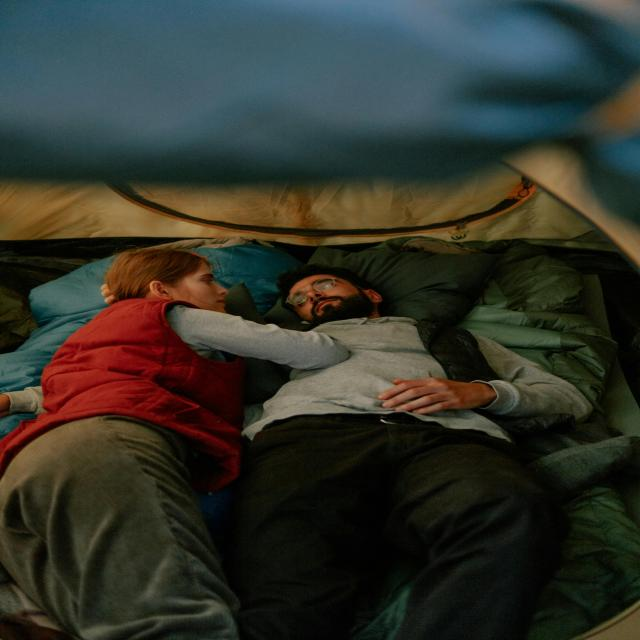lie: (255, 259, 582, 640), (8, 246, 248, 640)
